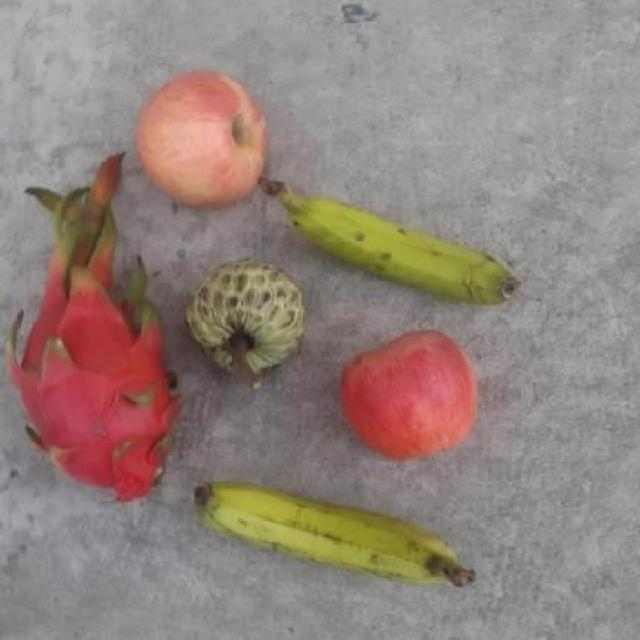apple: (337, 326, 481, 462), (136, 68, 272, 210)
banana: (259, 176, 522, 307), (190, 479, 475, 590)
dragon fruit: (6, 249, 189, 506)
sugar apple: (184, 254, 304, 377)
